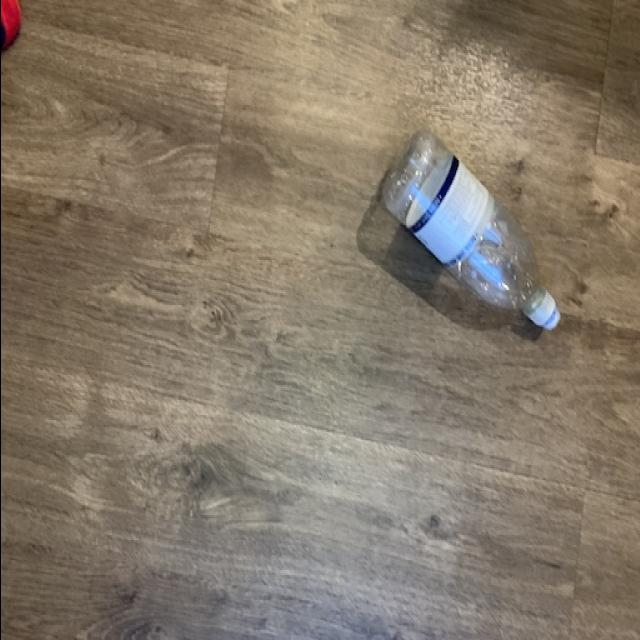PET: (376, 121, 560, 332)
